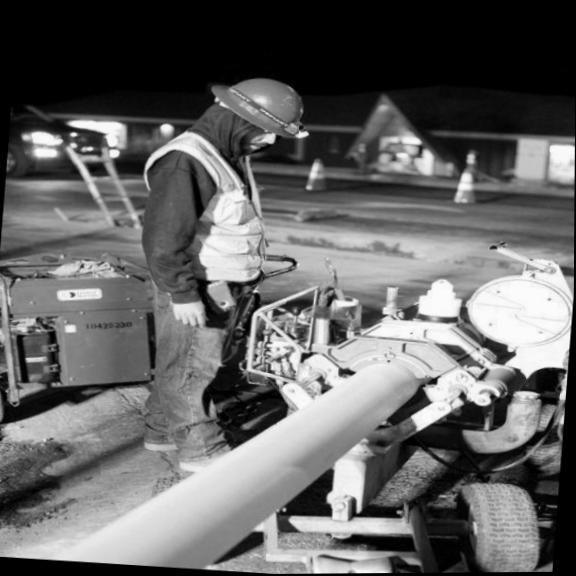safety_vest: (164, 134, 282, 292)
